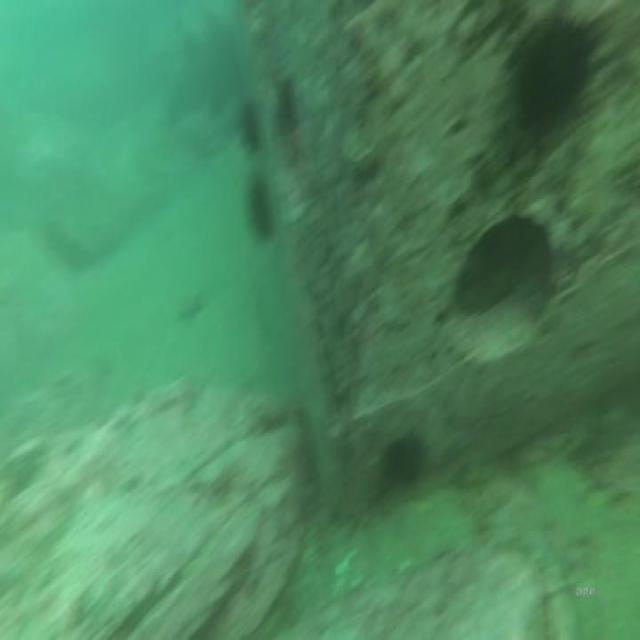echinus: (512, 16, 587, 144), (248, 177, 278, 242), (276, 71, 300, 141), (238, 96, 263, 156)
